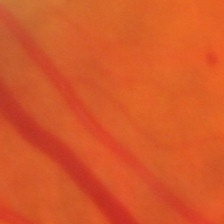MA: (206, 52, 217, 65)
